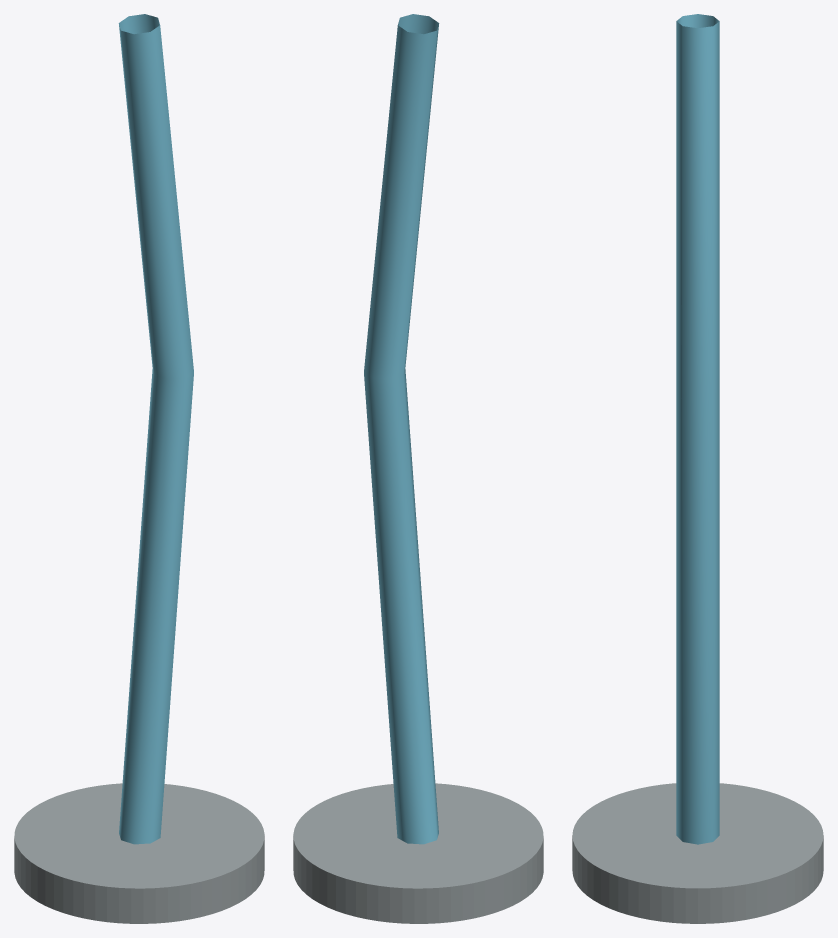
Rendered from ground-jet.glb.
3 views of the same model, side by side, from view 1: azimuth 30°, elevation 25°; view 2: azimuth 150°, elevation 25°; view 3: azimuth 270°, elevation 25° (orthographic).
Visible parts, largest first — view 1: Water jet, Jet collar; view 2: Water jet, Jet collar; view 3: Water jet, Jet collar.
Part boxes in pixels (left/top/right/bottom): Water jet: left=118, top=14, right=193, bottom=844; Jet collar: left=14, top=783, right=264, bottom=923; Water jet: left=364, top=14, right=439, bottom=844; Jet collar: left=293, top=783, right=543, bottom=923; Water jet: left=676, top=14, right=719, bottom=844; Jet collar: left=572, top=783, right=823, bottom=923.
Size of the model in its own units: 0.64 by 2.4 by 0.64.
